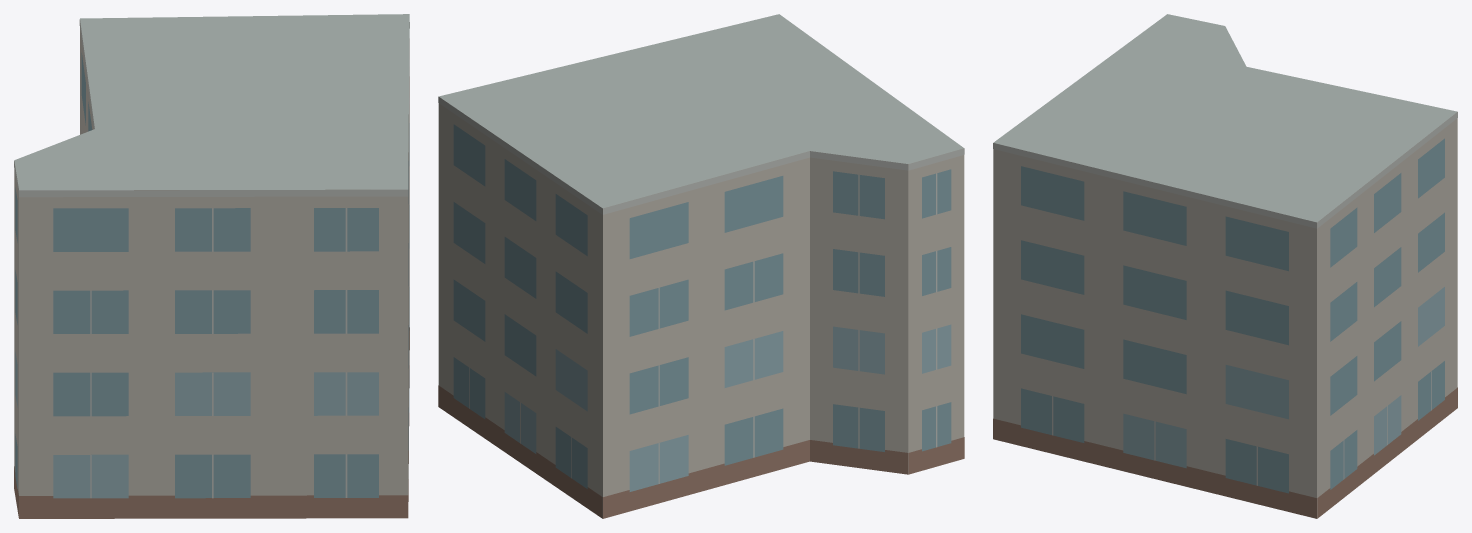
The model's file is survey-upis-32972160.glb.
3 renders of one model, left to right at view 1: azimuth 30°, elevation 25°; view 2: azimuth 150°, elevation 25°; view 3: azimuth 270°, elevation 25°, orthographic. The views are drawn at different scales.
Visible parts, largest first — view 1: survey-upis-32972160.tmp; view 2: survey-upis-32972160.tmp; view 3: survey-upis-32972160.tmp.
Part boxes in pixels (box(x1,y1,x2,y2)): survey-upis-32972160.tmp: box(14, 14, 409, 518); survey-upis-32972160.tmp: box(438, 14, 964, 518); survey-upis-32972160.tmp: box(993, 14, 1457, 518).
Bounding box in the file's own units: 17.51 × 11.6 × 16.49.
